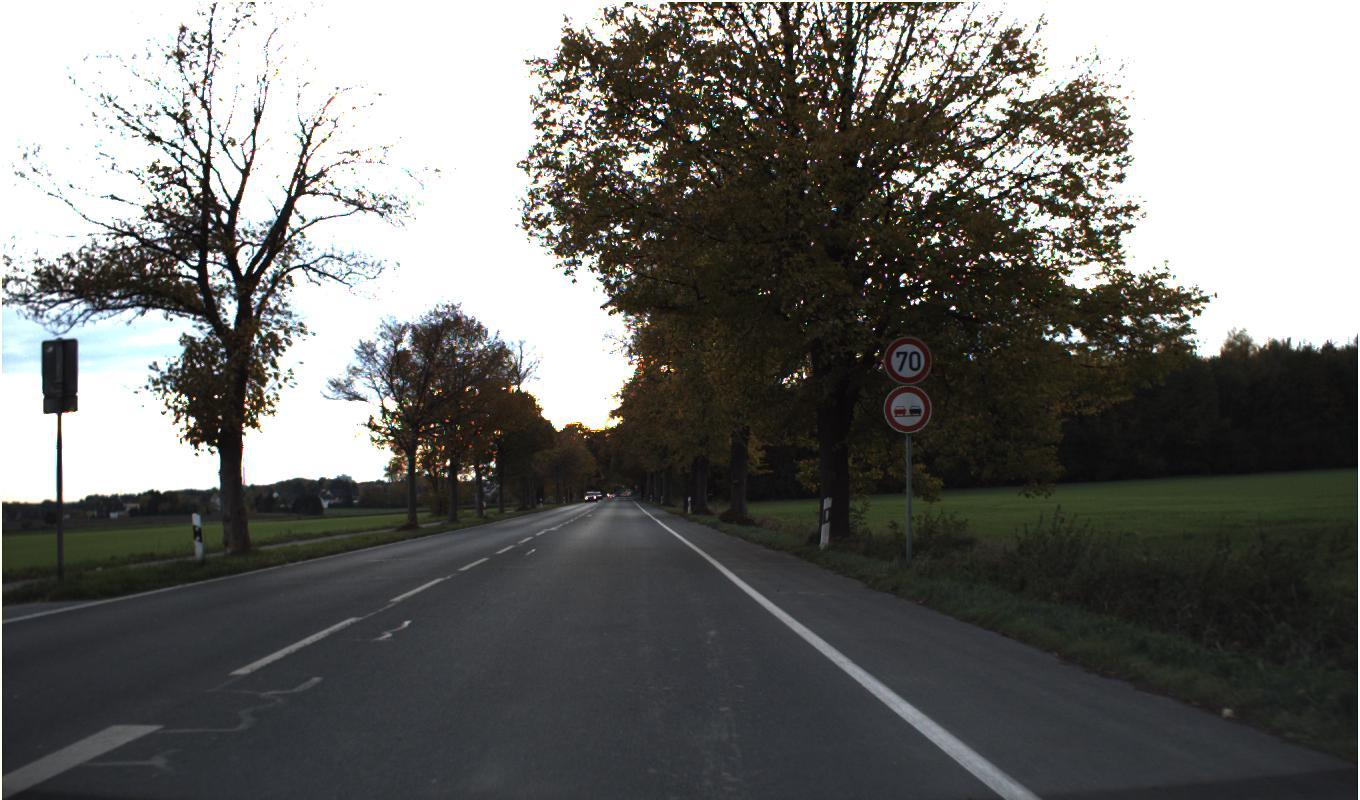9: (883, 385, 932, 433)
speed limit 70 prohibitory: (882, 335, 932, 385)
